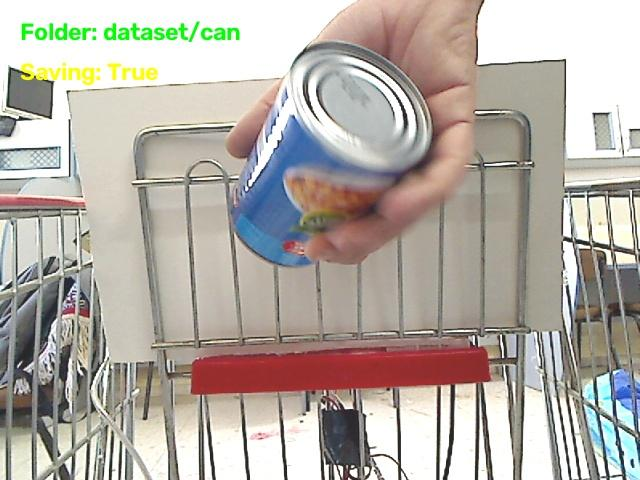can: (231, 42, 431, 265)
